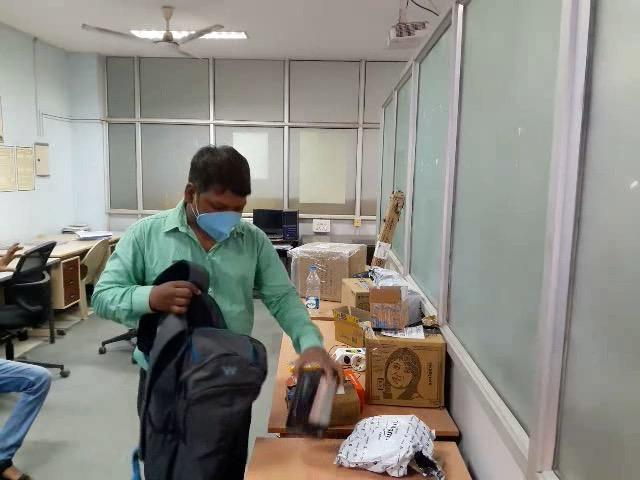shoplifting: (81, 235, 357, 474)
